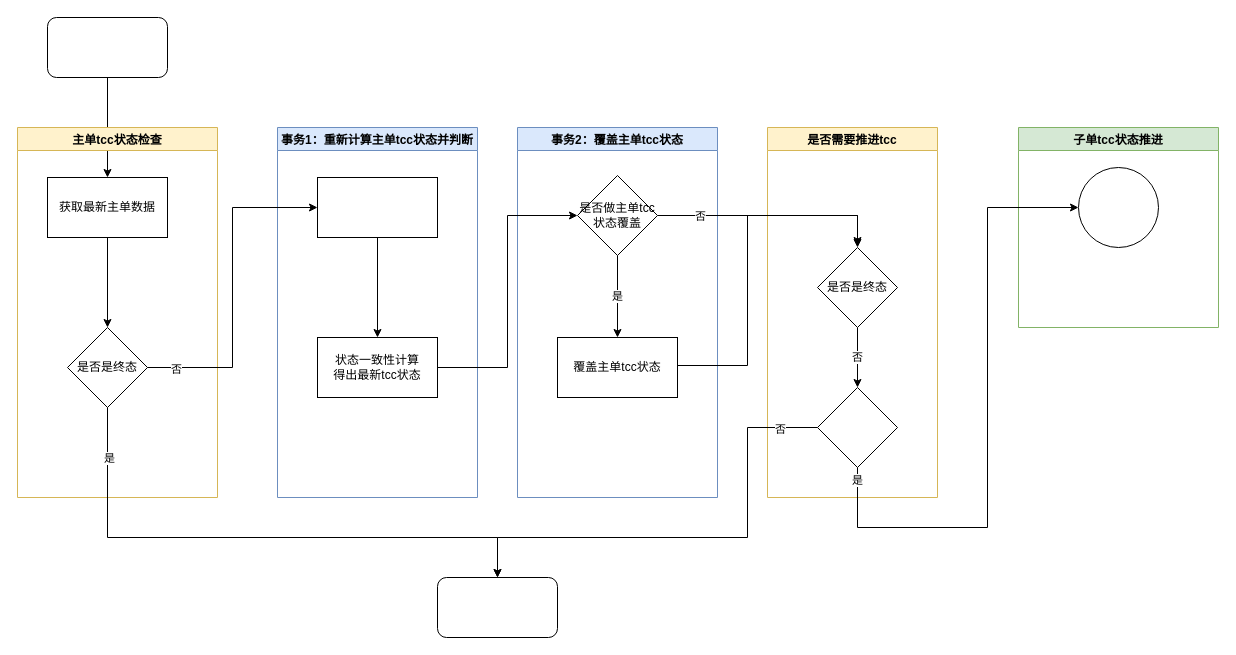
Image size: 1236x655. Some labels were removed from this diagram. Here are the shapes that lost their labels. From the top down, the centre of each, then its label:
At pixel 107 47: "开始".
At pixel 377 207: "获取并锁定主单下的所有子单".
At pixel 1118 207: "子单与业务系统单据一致性处理".
At pixel 857 427: "是否允许 自动推进 confirm".
At pixel 497 607: "结束".
